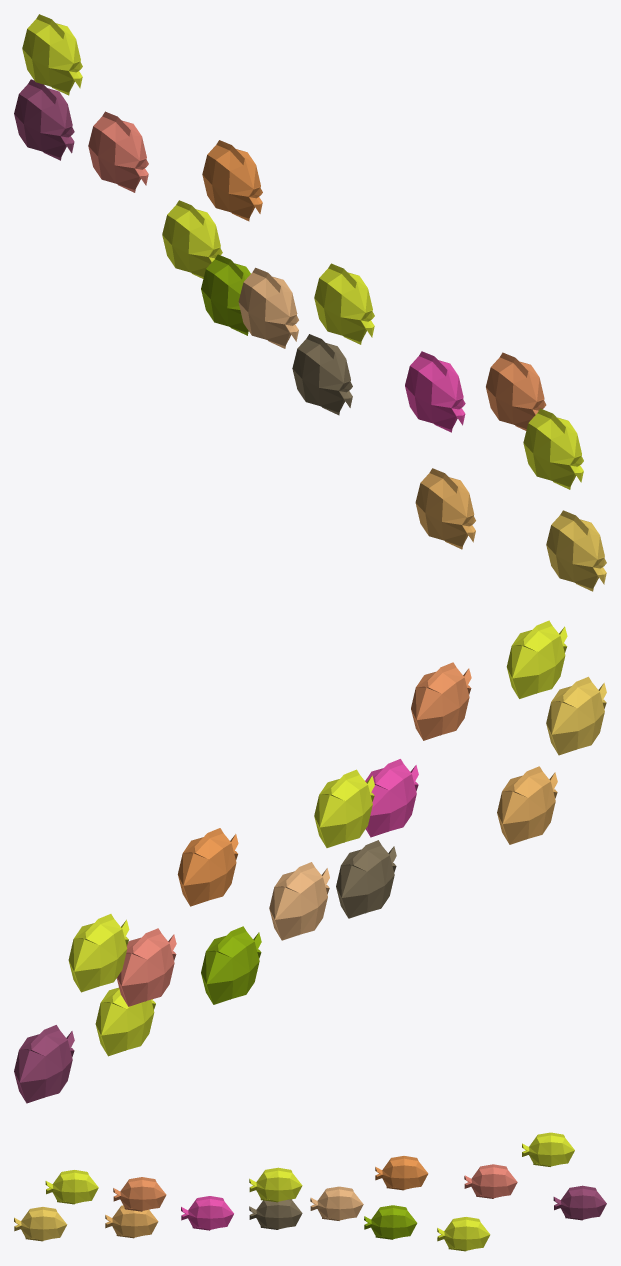
File: fishes.fbx
3 renders of one model, top to bottom at view 1: azimuth 30°, elevation 25°; view 2: azimuth 150°, elevation 25°; view 3: azimuth 270°, elevation 25°, orthographic. The views are drawn at different scales.
Visible parts, largest first — view 1: fishes; view 2: fishes; view 3: fishes.
Boxes of the visible parts, x1,y1,x2,y2 form: fishes: (14,14,606,591); fishes: (14,620,606,1103); fishes: (14,1132,606,1251).
Size of the model in its own units: 601 by 1063 by 5183.
